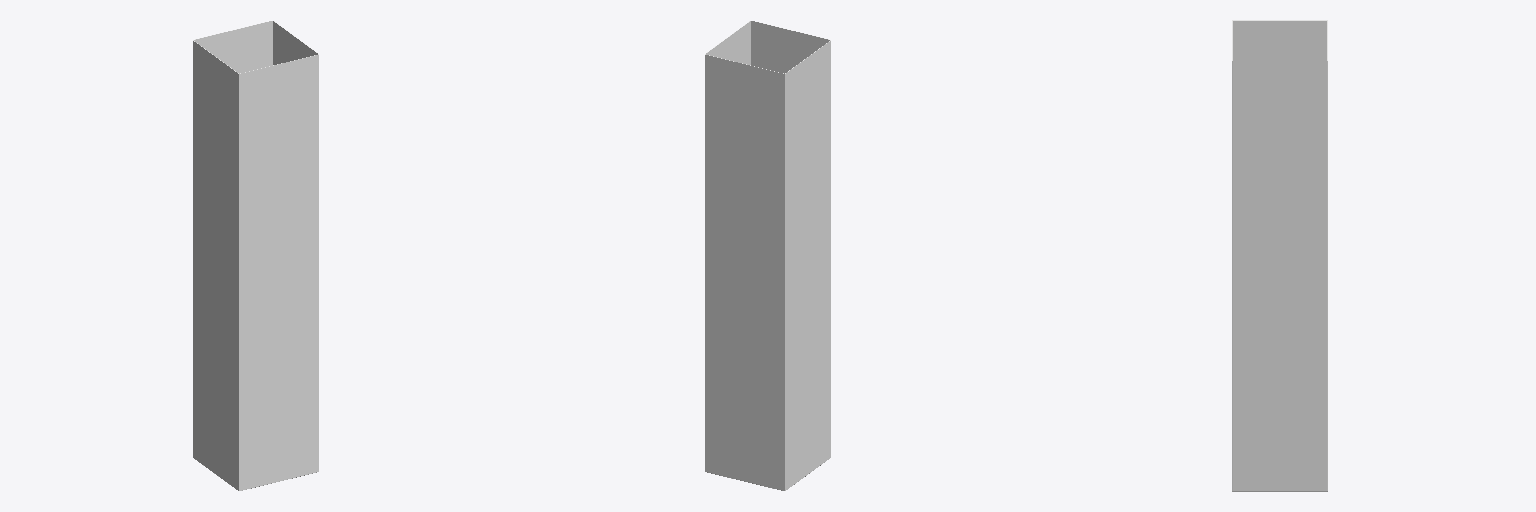
robot.urdf — plane:

<robot name="plane">
  <link name="planeLink">
  <contact>
      <lateral_friction value="1"/>
  </contact>
    <inertial>
      <origin rpy="0 0 0" xyz="0 0 0"/>
       <mass value=".0"/>
       <inertia ixx="0" ixy="0" ixz="0" iyy="0" iyz="0" izz="0"/>
    </inertial>
    <visual>
      <origin rpy="0 0 0" xyz="0 0 0"/>
      <geometry>
				<mesh filename="cubo1m.obj" scale="1 1 1"/>
      </geometry>
       <material name="white">
        <color rgba="1 1 1 1"/>
      </material>
    </visual>
    <collision>
      <origin rpy="0 0 0" xyz="0 0 -5"/>
      <geometry>
	 	<box size="30 30 10"/>
      </geometry>
    </collision>
  </link>
</robot>

--- Render facts (derived) ---
Views: 3 orthographic renders of the robot side by side, from view 1: azimuth 30°, elevation 25°; view 2: azimuth 150°, elevation 25°; view 3: azimuth 270°, elevation 25°.
Model plane with 1 links and 0 joints (none), rooted at planeLink, posed every joint at zero.
Links seen in each view (by area): view 1: planeLink; view 2: planeLink; view 3: planeLink.
Link boxes in pixels (<box>): planeLink: <box>193,21,318,490</box>; planeLink: <box>705,21,830,490</box>; planeLink: <box>1232,20,1327,491</box>.
Size in the robot's own frame: 1010 by 1010 by 5005 metres.
1 mesh visuals loaded from 1 distinct referenced files (1 OBJ).